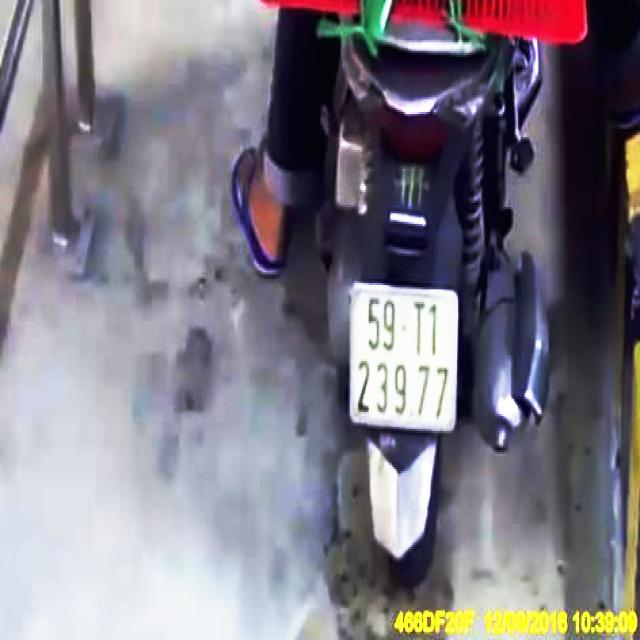license_plate: (350, 286, 460, 433)
